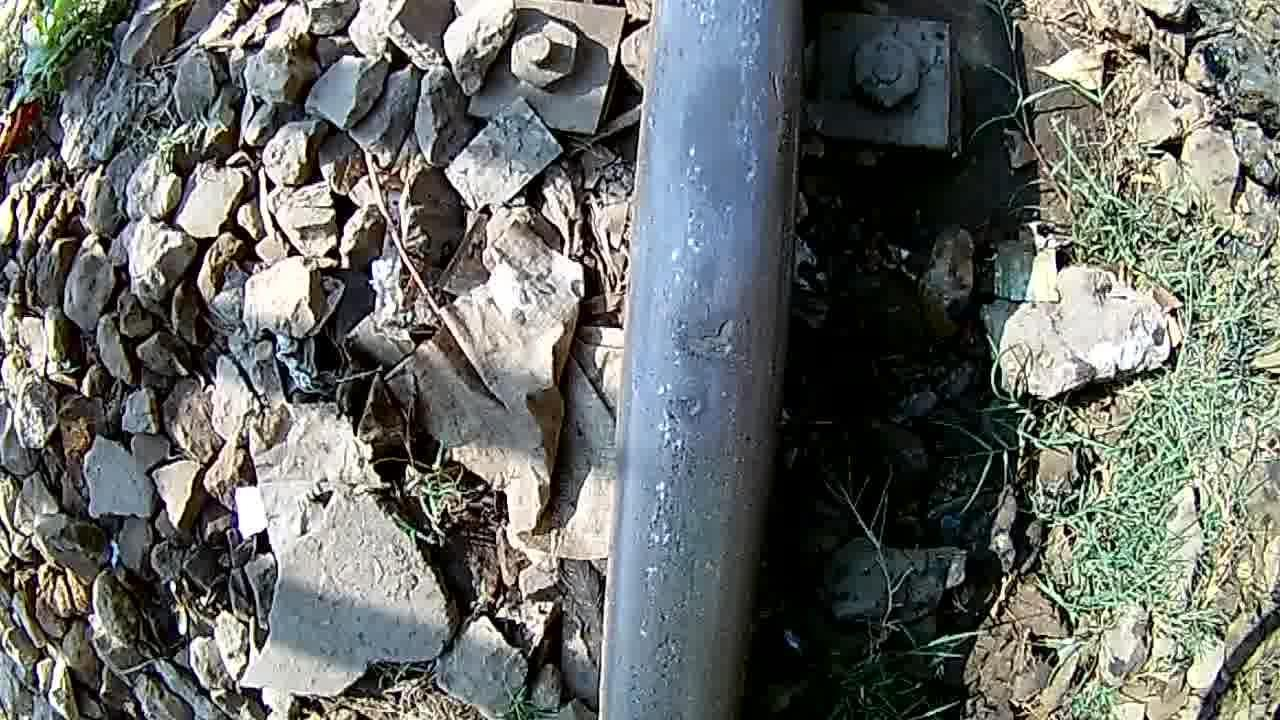crack: (626, 2, 796, 720)
